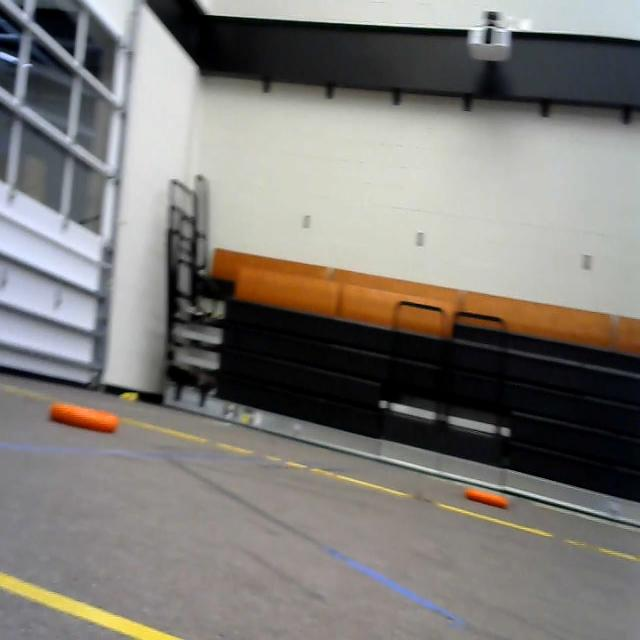note: (46, 396, 125, 444), (462, 483, 512, 517)
